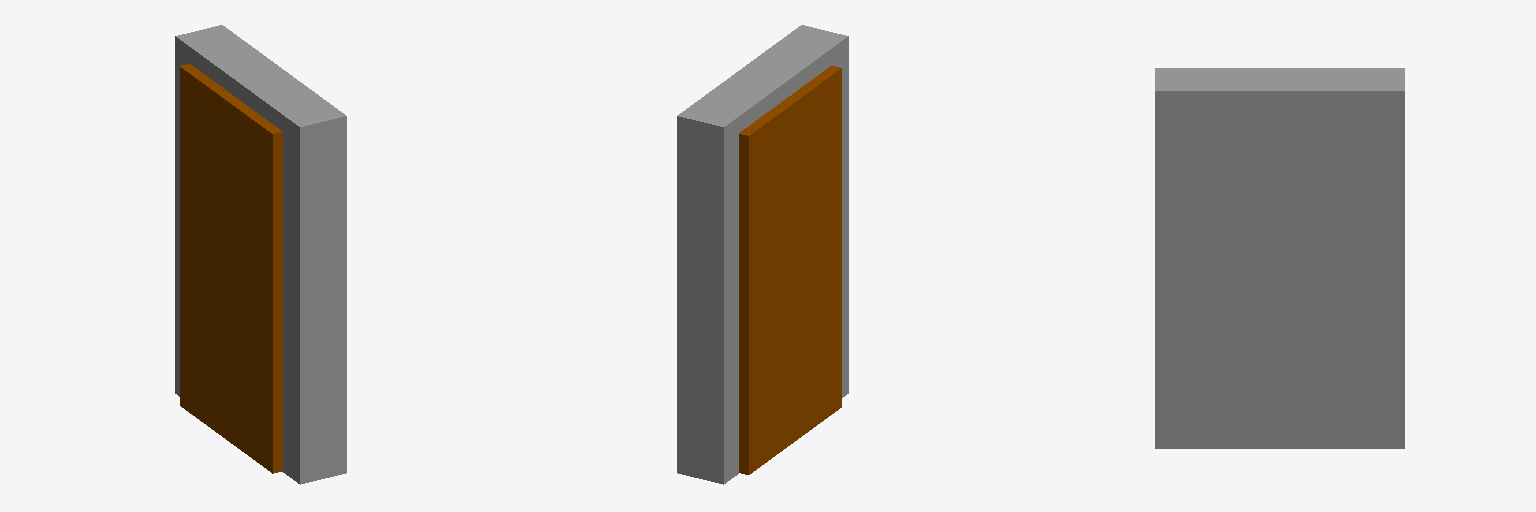
3 views of the same model, side by side, from view 1: azimuth 30°, elevation 25°; view 2: azimuth 150°, elevation 25°; view 3: azimuth 270°, elevation 25° (orthographic).
Parts seen in each view (by area): view 1: Door_Cube.005; view 2: Door_Cube.005; view 3: Door_Cube.005.
Boxes of the visible parts, x1,y1,x2,y2 form: Door_Cube.005: [175, 25, 346, 484]; Door_Cube.005: [677, 25, 848, 484]; Door_Cube.005: [1155, 68, 1404, 448].
Size of the model in its own units: 0.7105 by 4.23 by 2.68.
1 materials, 1 textured.